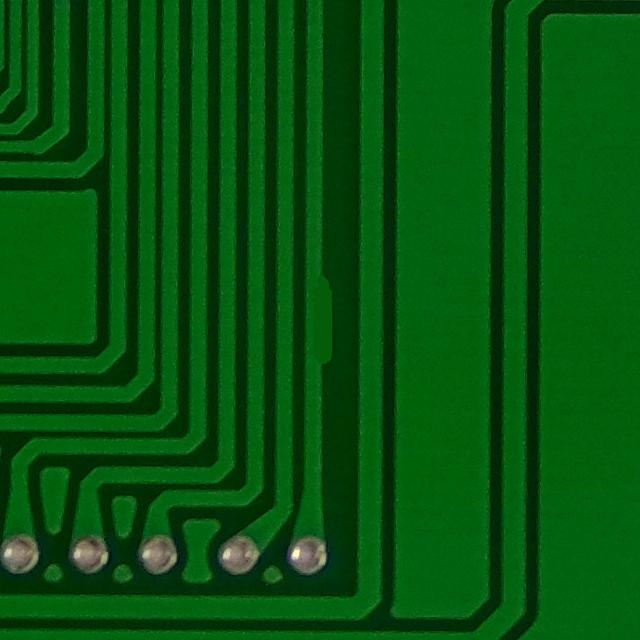spur: (296, 259, 344, 381)
